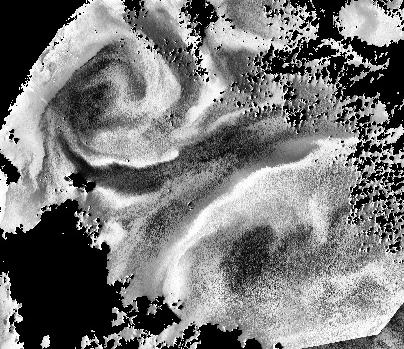AE: (31, 25, 182, 170)
